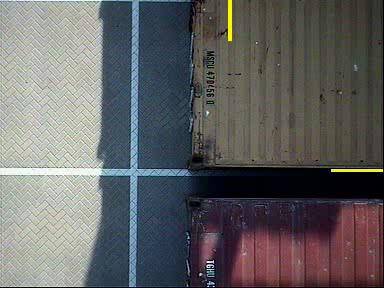groundmarker_2: (143, 20, 195, 48), (144, 146, 195, 173)
